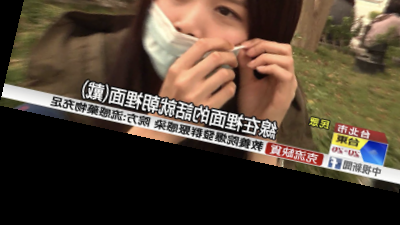mask_weared_incorrect: (121, 1, 307, 112)
